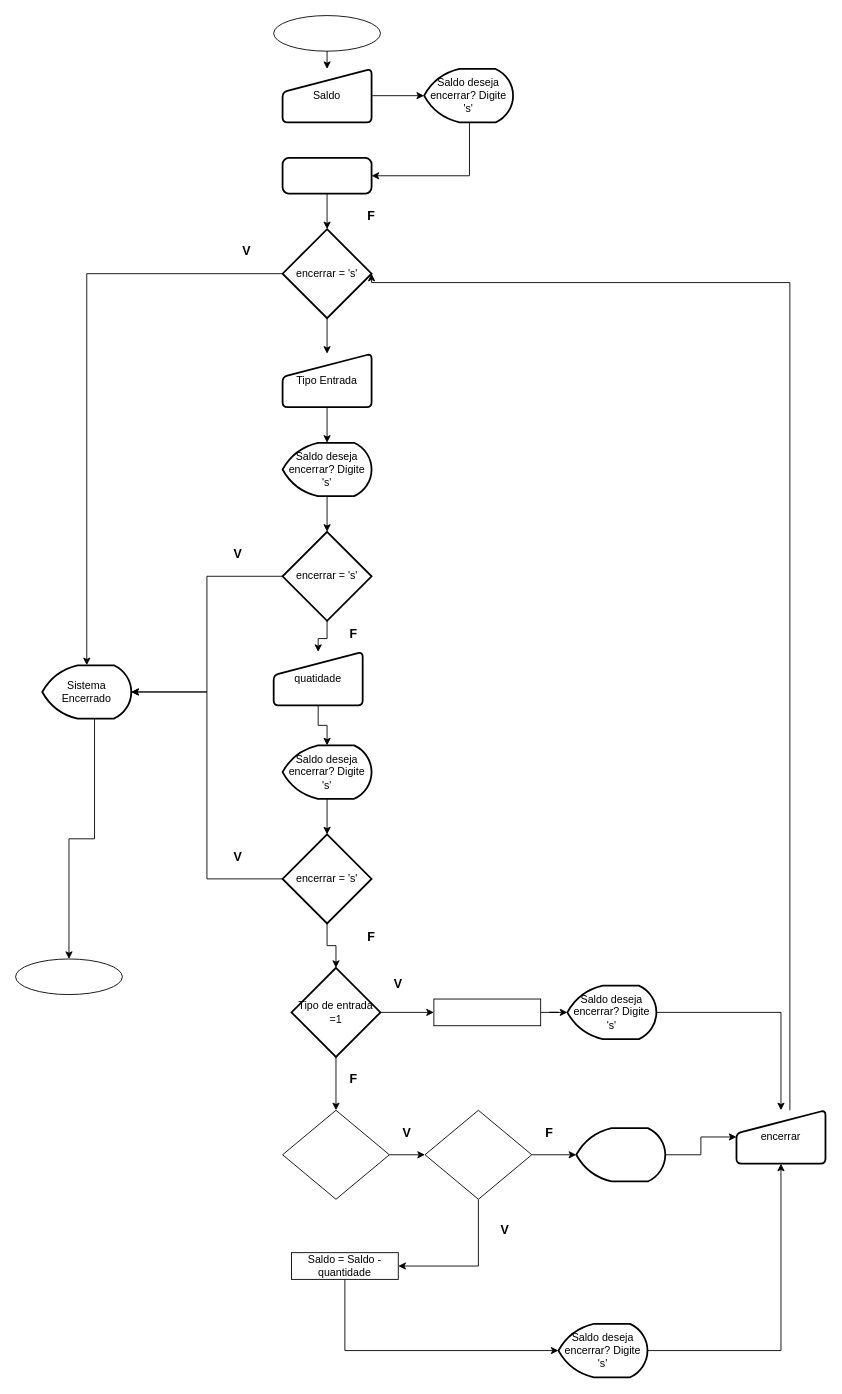
Image size: 842x1394. Some labels were removed from this diagram. The centre of each missing label's shape, as x and y in pixels:
"encerra: 's'" goes at point 326,175.
"Fim" goes at point 68,976.
"Início" goes at point 326,33.
"Saldo < = quantidade" goes at point 478,1154.
"Saldo = Saldo + Quantidade" goes at point 487,1012.
"Saldo insufisiente deseja encerrar? Digite 's'" goes at point 620,1154.
"Tipo de entrada = 2" goes at point 335,1154.
